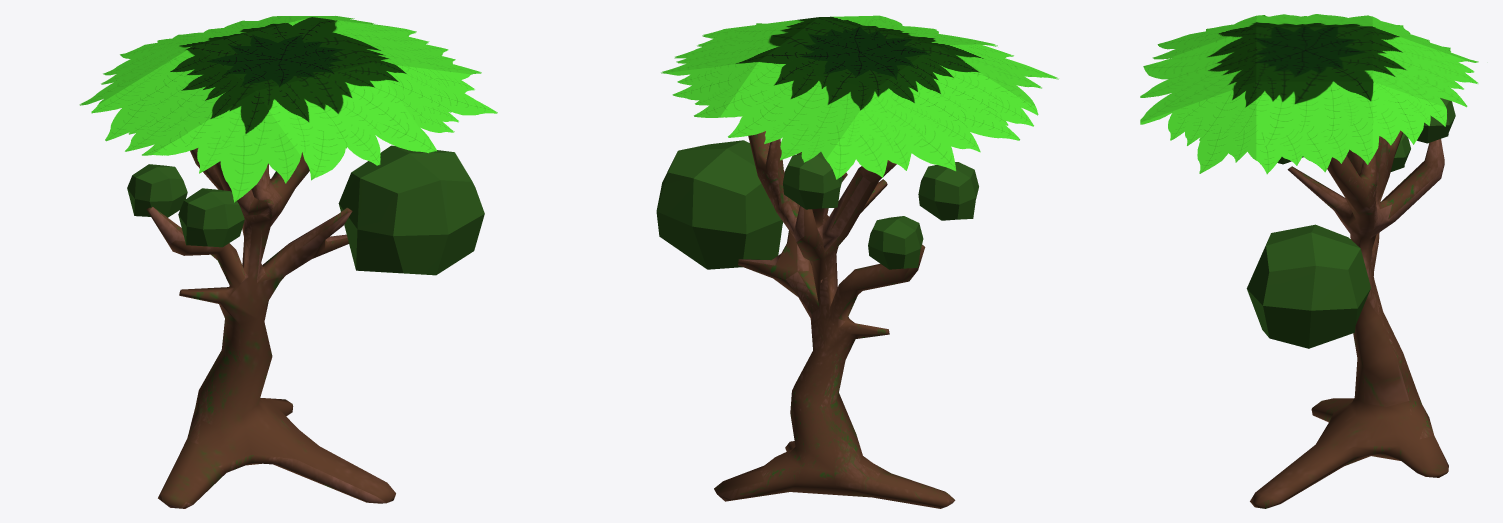
The model's file is ArvoreSavana2LOD0.fbx.
The picture shows the model from 3 angles, left to right: view 1: azimuth 30°, elevation 25°; view 2: azimuth 150°, elevation 25°; view 3: azimuth 270°, elevation 25°; orthographic projection. The views are drawn at different scales.
Parts seen in each view (by area): view 1: FolhasArvoreSavana2LOD0; view 2: FolhasArvoreSavana2LOD0; view 3: FolhasArvoreSavana2LOD0.
Boxes of the visible parts, x1,y1,x2,y2 form: FolhasArvoreSavana2LOD0: (79, 16, 497, 508); FolhasArvoreSavana2LOD0: (656, 15, 1058, 508); FolhasArvoreSavana2LOD0: (1140, 14, 1478, 508).
Size of the model in its own units: 735 by 853 by 641.
